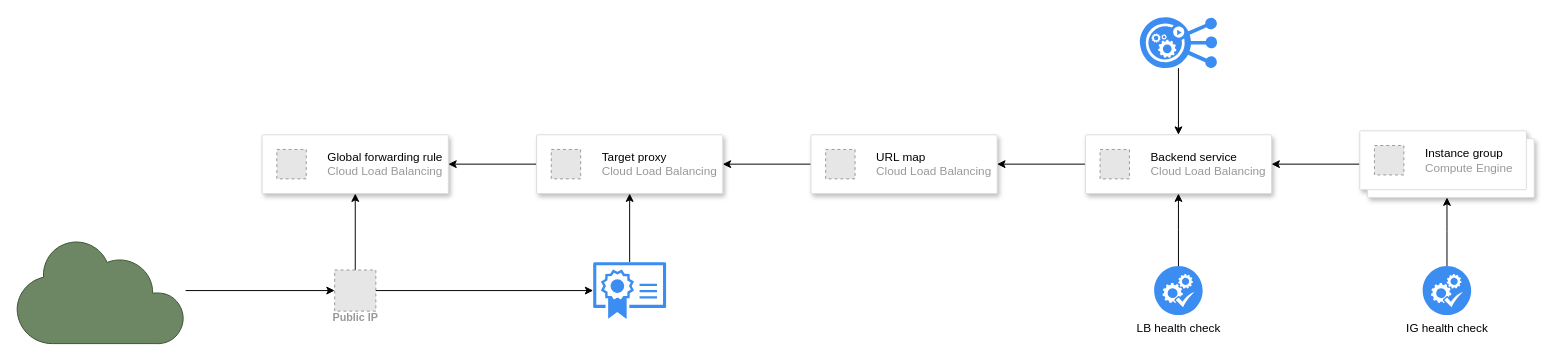
Image size: 1557x362. Some labels were removed from this diagram. Grey dashed boxes stand in for pictures. Here are the shapes that lost their labels. From the top down, the centre of each, then its label:
(1178,42): Named port
(629,290): Managed SSL certificate
